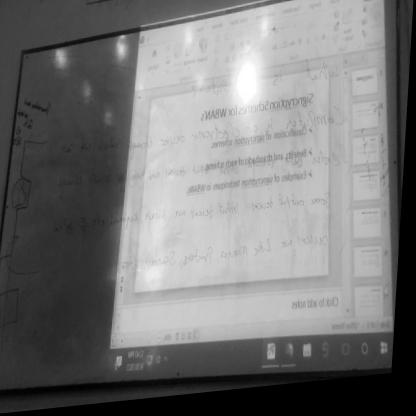Handwritten text: (50, 100, 352, 169), (53, 187, 340, 247), (140, 224, 339, 295), (191, 57, 348, 112)
Whiteboard: (0, 0, 398, 394)
